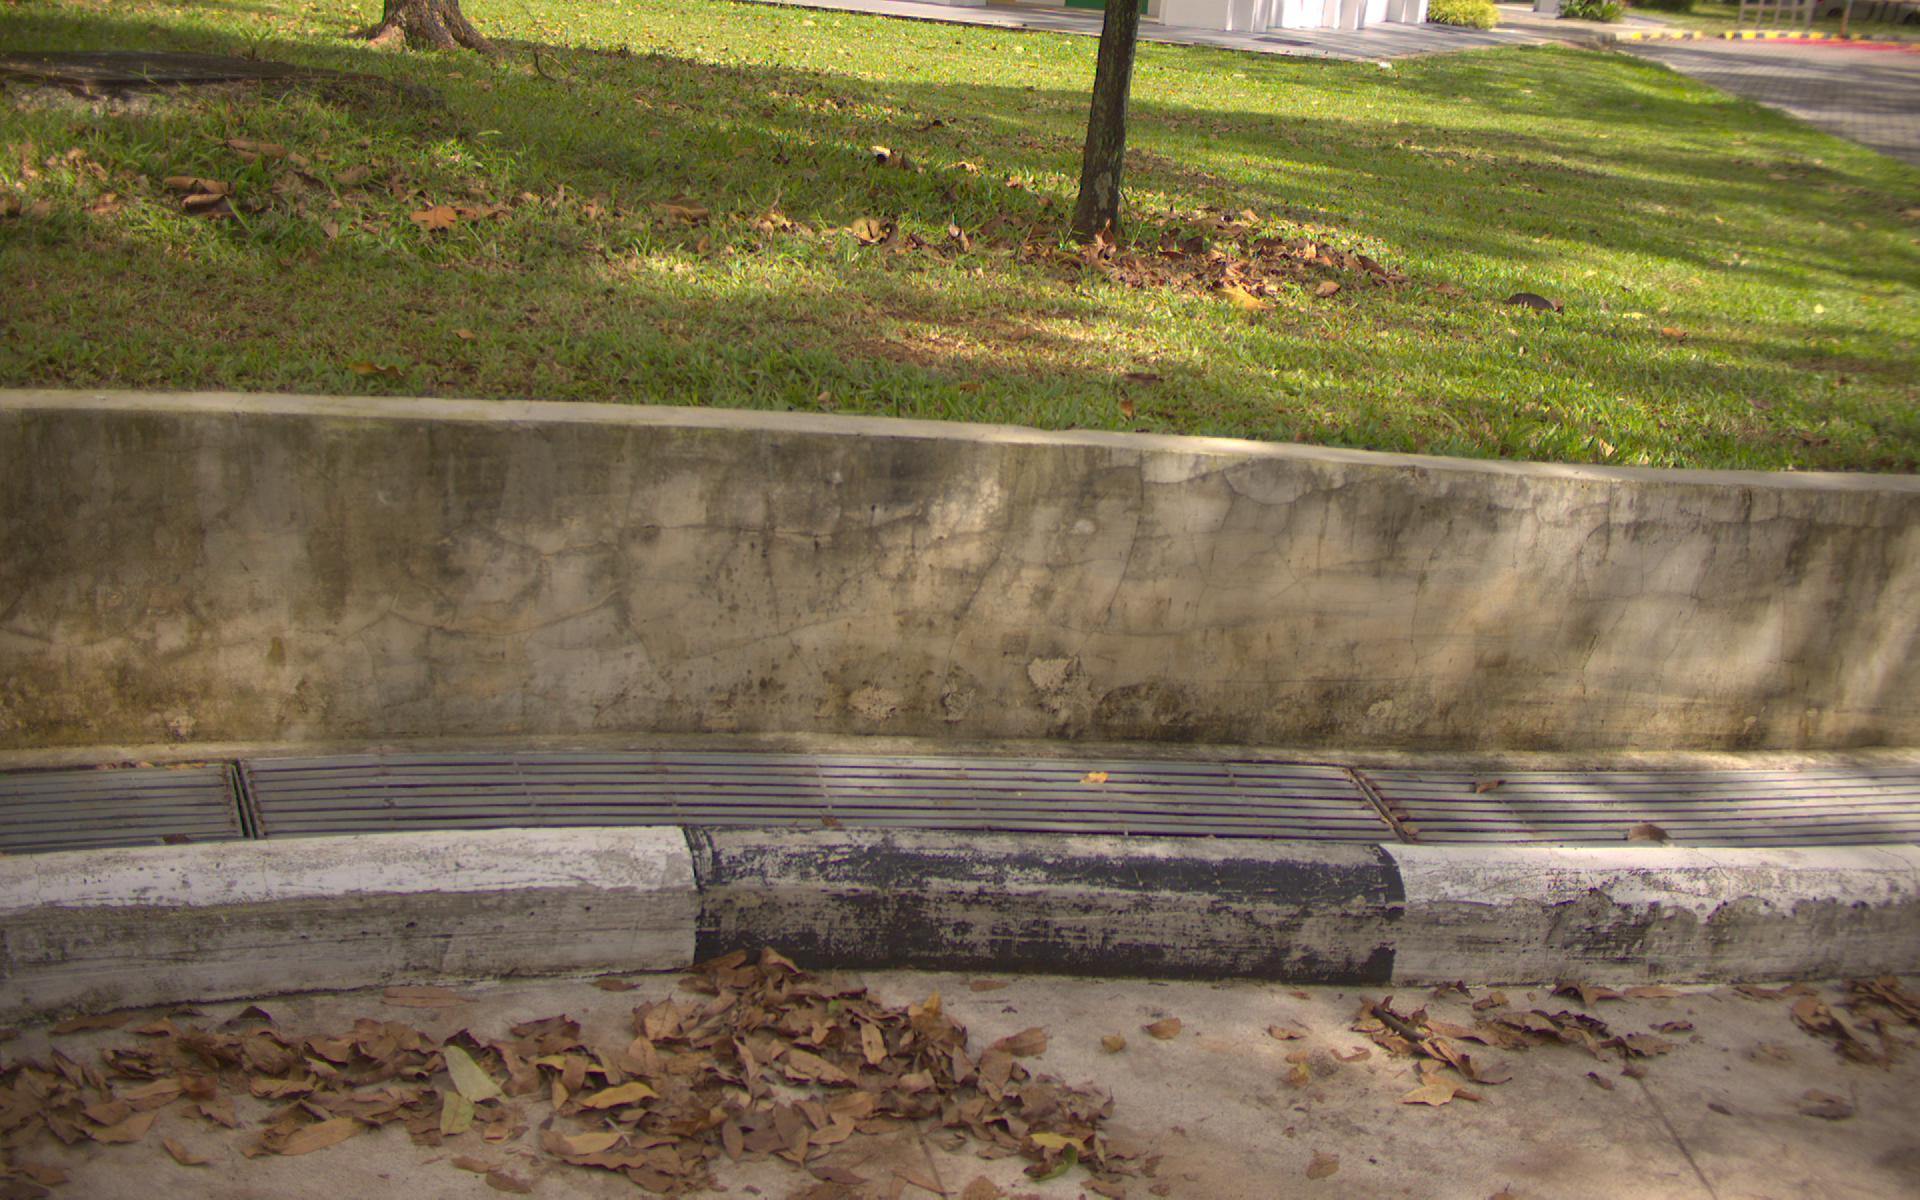curb_dic_low: (70, 753, 1910, 834)
road_curb_medium: (28, 1018, 1920, 1200)
road_turf_low: (1, 158, 1919, 328)
